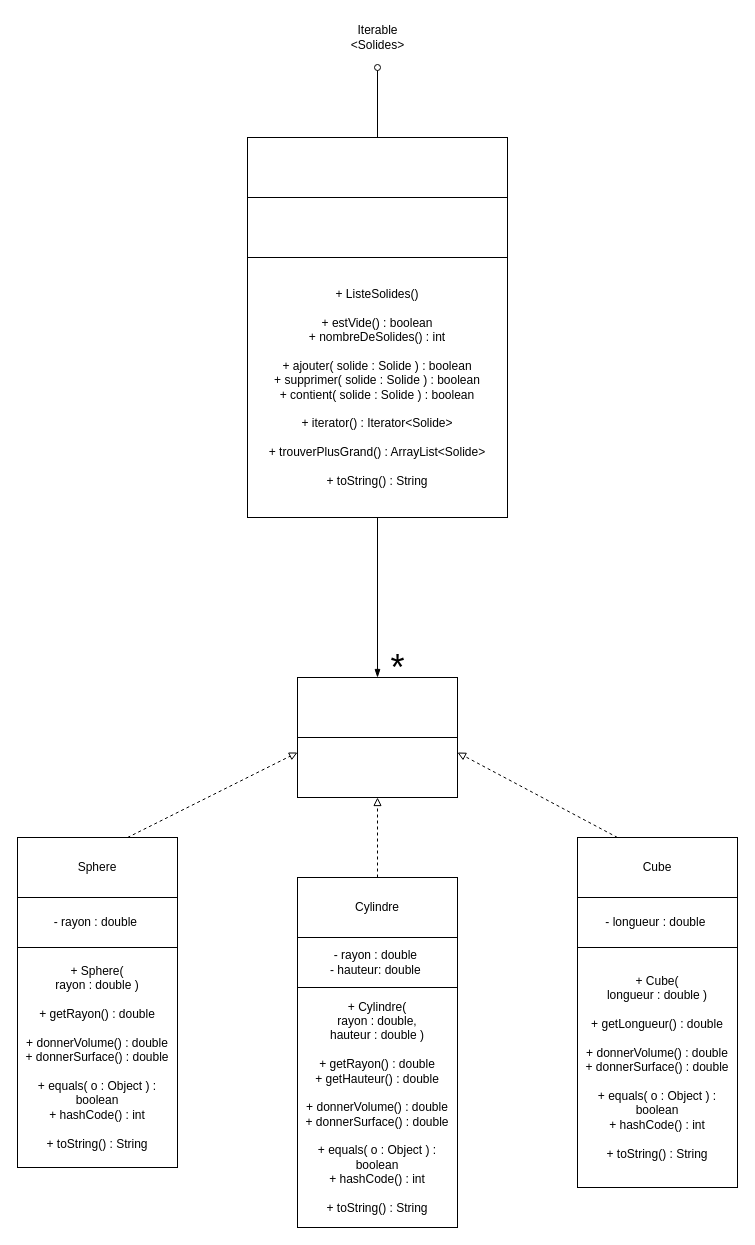
Image size: 755x1245. Some labels were removed from this diagram. The shapes that lost their labels are listed below. From the top down, each one's centre as x and y in pixels, then its label:
(377,167): ListeSolides
(377,227): - listeSolides : ArrayList<Solides>
(377,707): "interface" Solide
(377,767): + donnerVolume() : double + donnerSurface() : double
